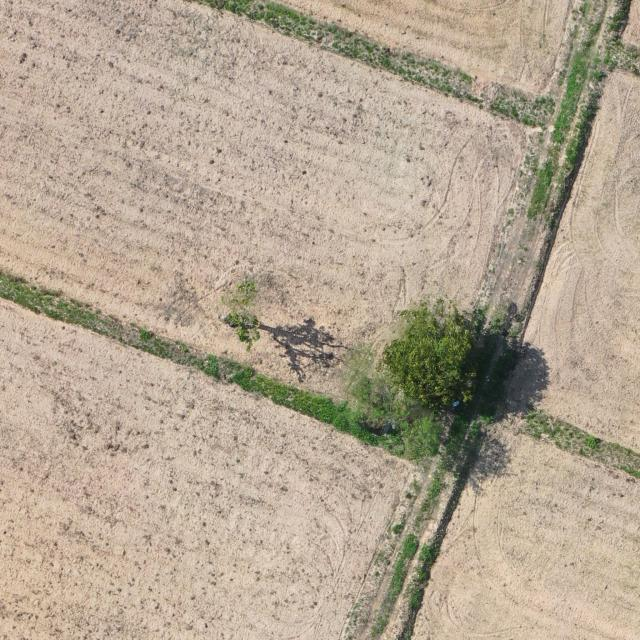Tree: (373, 296, 489, 416), (336, 341, 442, 463), (219, 276, 263, 355)
